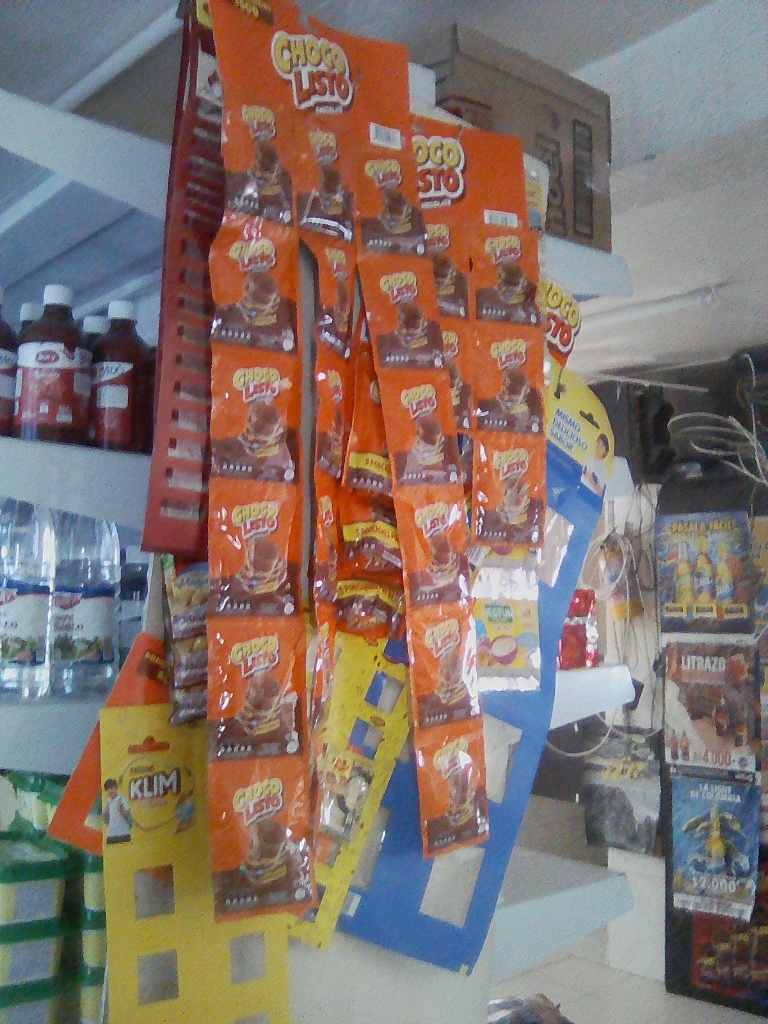COL0170103SOB02000: (207, 763, 319, 914)
